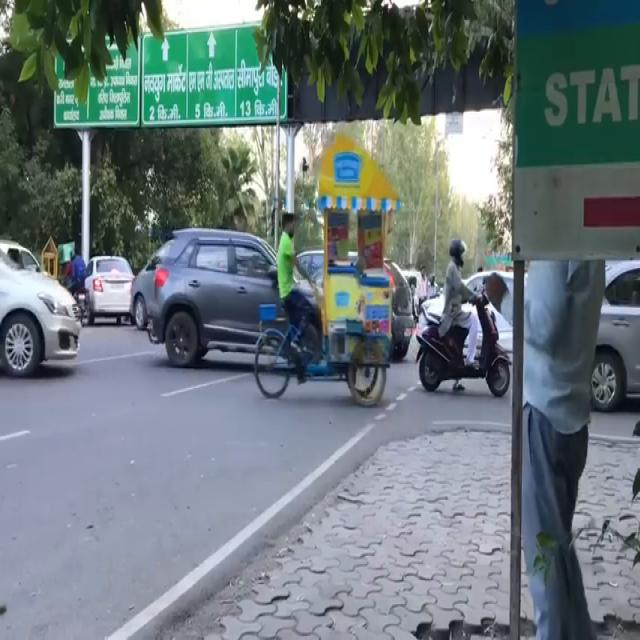MOTORCYCLE: (414, 266, 512, 401)
SUV: (150, 227, 288, 373)
